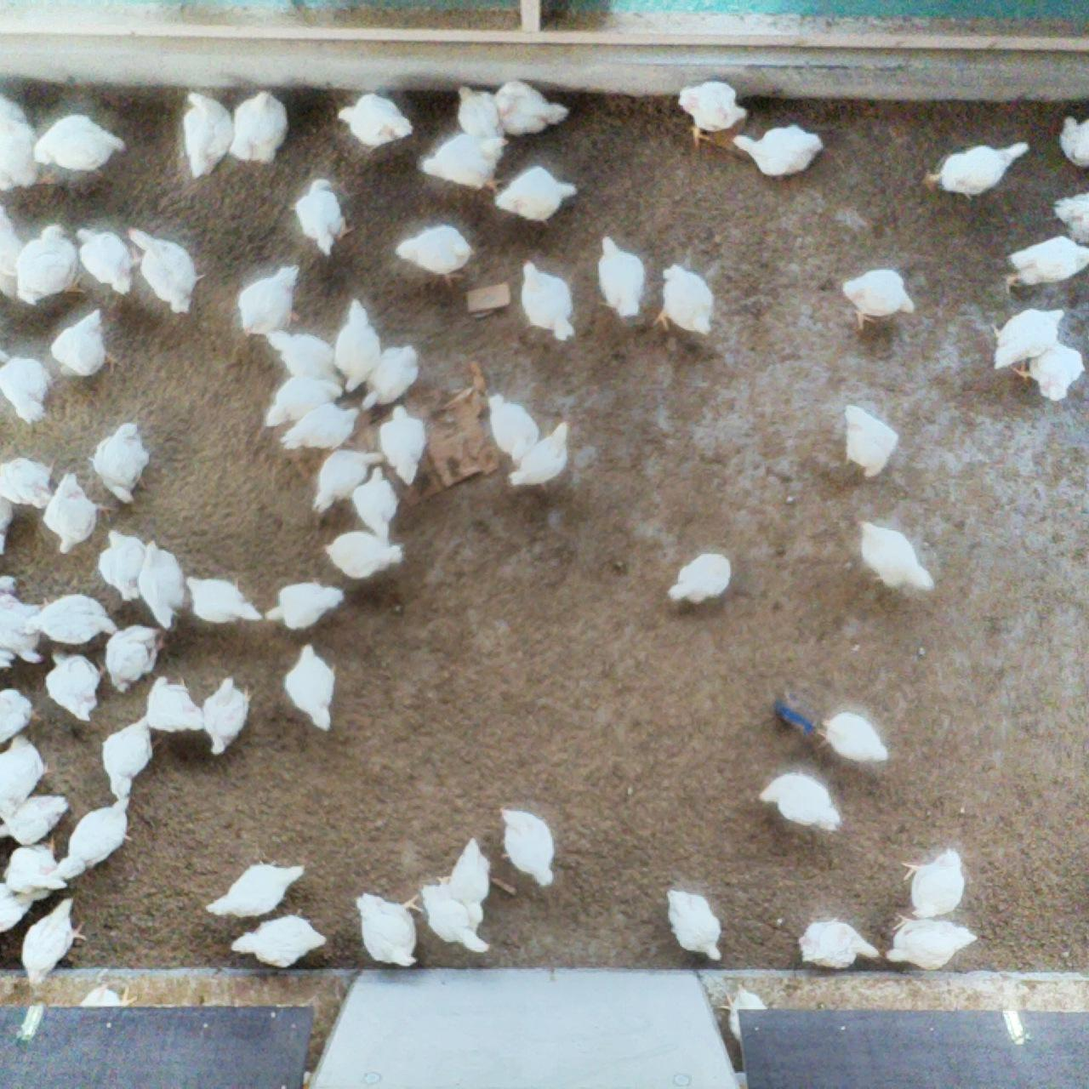chicken: (125, 222, 210, 319), (750, 764, 847, 848), (202, 852, 308, 927), (919, 136, 1032, 206), (40, 472, 122, 560), (854, 515, 935, 604), (55, 794, 136, 882), (31, 110, 130, 181), (19, 892, 89, 992), (228, 909, 332, 975), (12, 220, 90, 307), (881, 908, 980, 976), (995, 231, 1089, 299), (100, 710, 168, 802), (439, 833, 510, 921), (0, 91, 60, 194), (391, 221, 478, 292), (86, 418, 156, 506), (353, 887, 424, 973), (492, 165, 581, 233), (15, 590, 121, 647), (729, 122, 827, 183), (418, 879, 494, 957), (288, 176, 359, 258), (49, 306, 122, 385), (419, 131, 515, 191), (897, 843, 968, 924), (673, 76, 751, 149), (495, 803, 559, 891), (279, 640, 340, 732), (179, 87, 238, 182), (986, 305, 1067, 374), (838, 263, 919, 331), (333, 91, 416, 157), (807, 705, 893, 768), (42, 645, 108, 727), (236, 261, 304, 340), (518, 256, 578, 345), (662, 886, 727, 968), (307, 448, 385, 516), (651, 259, 717, 339), (0, 730, 54, 826), (839, 399, 901, 482), (227, 88, 292, 167), (73, 223, 141, 298), (333, 295, 384, 395), (264, 576, 349, 636), (264, 327, 346, 389), (200, 673, 259, 759), (506, 420, 575, 493), (103, 620, 168, 697), (1008, 342, 1087, 405), (793, 915, 880, 972), (359, 341, 427, 413), (593, 236, 648, 325), (137, 537, 188, 631), (262, 374, 348, 429), (494, 78, 572, 138), (376, 402, 429, 489), (0, 592, 62, 666), (453, 80, 508, 163), (322, 528, 405, 582), (183, 571, 263, 627), (484, 389, 542, 466), (278, 399, 359, 452), (0, 346, 53, 425), (3, 832, 69, 895), (94, 525, 147, 603), (665, 550, 734, 609), (351, 464, 402, 543), (0, 444, 60, 511), (144, 671, 207, 734), (0, 876, 50, 938), (0, 685, 43, 750), (0, 205, 26, 306), (1048, 186, 1089, 246), (73, 977, 139, 1009), (1057, 110, 1089, 170), (0, 492, 18, 557)
